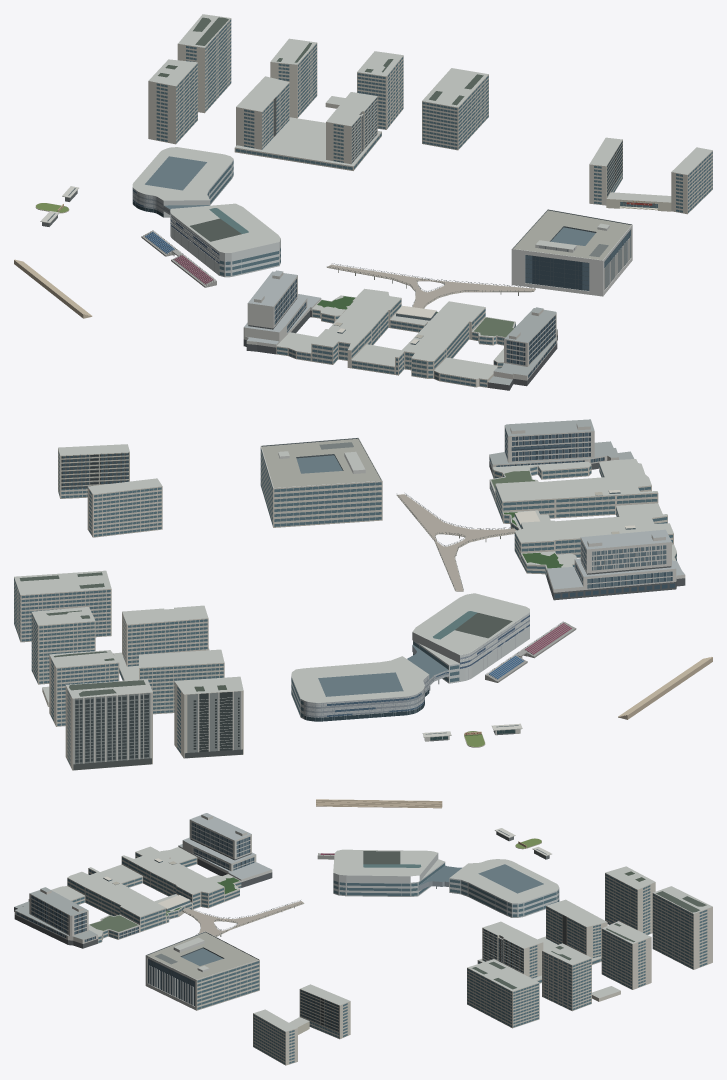
Rendered from huangbohai-buildings.glb.
The picture shows the model from 3 angles, top to bottom: view 1: azimuth 30°, elevation 25°; view 2: azimuth 150°, elevation 25°; view 3: azimuth 270°, elevation 25°; orthographic projection. The views are drawn at different scales.
Parts seen in each view (by area): view 1: 博雅楼（J5）, 风雨操场, 文化中心, S5 学生宿舍, J1 教学楼, J2 教学楼, J3 教学楼, G1 国际交流中心, G2 国际交流中心, J4 教学楼, S1 学生宿舍, 蓬莱阁餐厅 (+13 smaller); view 2: 博雅楼（J5）, 文化中心, G2 国际交流中心, J1 教学楼, 风雨操场, G1 国际交流中心, J3 教学楼, J4 教学楼, S5 学生宿舍, S2 学生宿舍, S6 学生宿舍, J2 教学楼 (+11 smaller); view 3: 博雅楼（J5）, 文化中心, 风雨操场, G2 国际交流中心, J1 教学楼, S5 学生宿舍, J2 教学楼, J4 教学楼, J3 教学楼, S3 学生宿舍, S4 学生宿舍, G1 国际交流中心 (+10 smaller).
Boxes of the visible parts, box(x1,y1,x2,y2) form: 博雅楼（J5）: box(511, 209, 632, 296); 风雨操场: box(170, 203, 280, 277); 文化中心: box(132, 147, 233, 217); S5 学生宿舍: box(422, 68, 488, 150); J1 教学楼: box(243, 270, 321, 354); J2 教学楼: box(311, 288, 401, 368); J3 教学楼: box(395, 301, 485, 378); G1 国际交流中心: box(148, 59, 197, 144); G2 国际交流中心: box(177, 14, 231, 113); J4 教学楼: box(487, 307, 557, 390); S1 学生宿舍: box(236, 76, 289, 149); 蓬莱阁餐厅: box(234, 117, 381, 170); 博雅楼（J5）: box(260, 437, 382, 527); 文化中心: box(291, 645, 448, 721); G2 国际交流中心: box(65, 679, 152, 770); J1 教学楼: box(547, 529, 685, 600); 风雨操场: box(412, 593, 529, 683); G1 国际交流中心: box(174, 676, 243, 758); J3 教学楼: box(495, 474, 658, 520); J4 教学楼: box(489, 419, 634, 475); S5 学生宿舍: box(14, 570, 111, 642); S2 学生宿舍: box(122, 605, 208, 666); S6 学生宿舍: box(87, 478, 162, 537); J2 教学楼: box(514, 514, 673, 562); 博雅楼（J5）: box(145, 931, 259, 1010); 文化中心: box(418, 859, 559, 917); 风雨操场: box(333, 849, 445, 896); G2 国际交流中心: box(652, 886, 712, 969); J1 教学楼: box(178, 813, 272, 887); S5 学生宿舍: box(467, 959, 539, 1028); J2 教学楼: box(121, 846, 224, 909); J4 教学楼: box(14, 887, 97, 948); J3 教学楼: box(67, 867, 166, 932); S3 学生宿舍: box(601, 921, 651, 989); S4 学生宿舍: box(542, 943, 591, 1011); G1 国际交流中心: box(605, 866, 655, 934).
Bounding box in the file's own units: 556 × 56.7 × 640.
